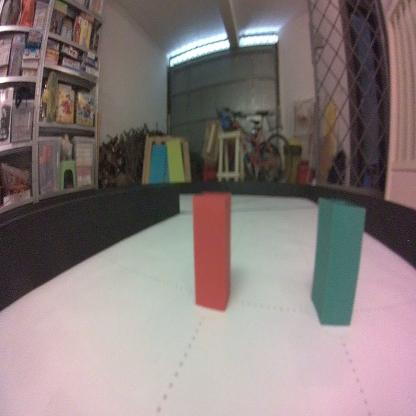green: (310, 195, 366, 330)
red: (192, 189, 232, 311)
